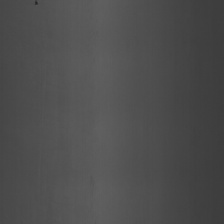inclusion: (33, 0, 40, 7)
